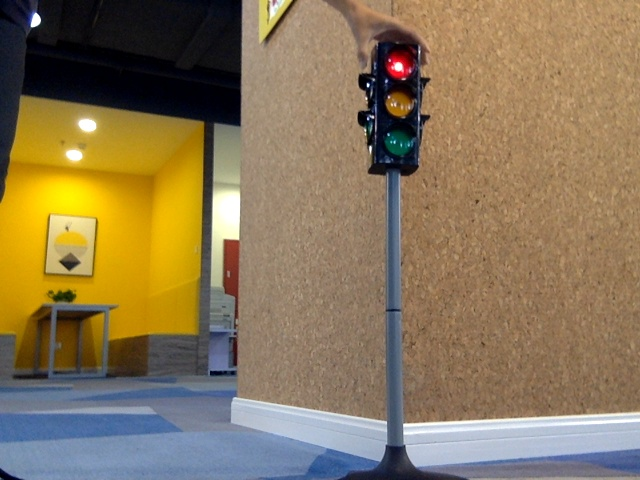red: (378, 48, 412, 163)
